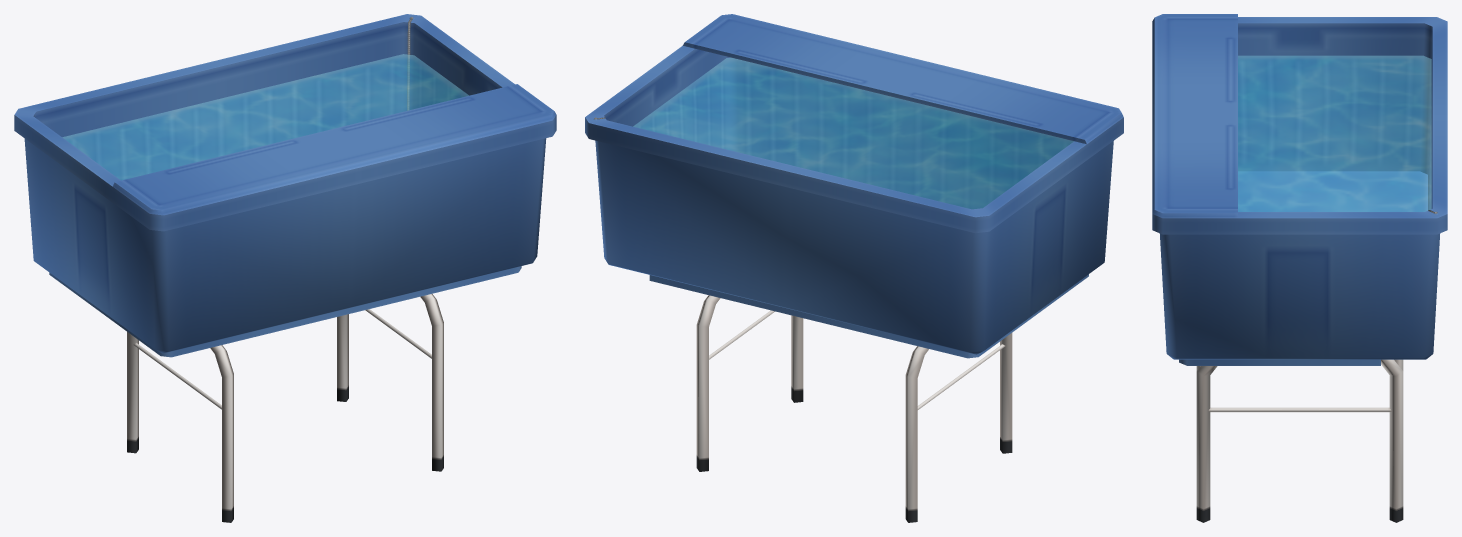
The model's file is jsf_StandTypeCoolerBox.fbx.
The picture shows the model from 3 angles, left to right: view 1: azimuth 30°, elevation 25°; view 2: azimuth 150°, elevation 25°; view 3: azimuth 270°, elevation 25°; orthographic projection. The views are drawn at different scales.
Parts seen in each view (by area): view 1: CoolerBox, Watersurface, Lid, Foot_01, Foot_02; view 2: CoolerBox, Watersurface, Lid, Foot_01, Foot_02; view 3: CoolerBox, Watersurface, Lid, Foot_02.
Part boxes in pixels (x1,y1,x2,y2): CoolerBox: (14,14,556,357); Watersurface: (62,54,468,180); Lid: (112,84,556,215); Foot_01: (127,332,233,522); Foot_02: (337,294,443,471); CoolerBox: (585,45,1123,358); Watersurface: (633,57,1073,209); Lid: (683,14,1123,144); Foot_01: (905,333,1012,522); Foot_02: (696,295,803,471); CoolerBox: (1152,17,1447,365); Watersurface: (1238,55,1431,211); Lid: (1152,14,1237,218); Foot_02: (1196,359,1403,522).
Size of the model in its own units: 100 by 82.06 by 62.
